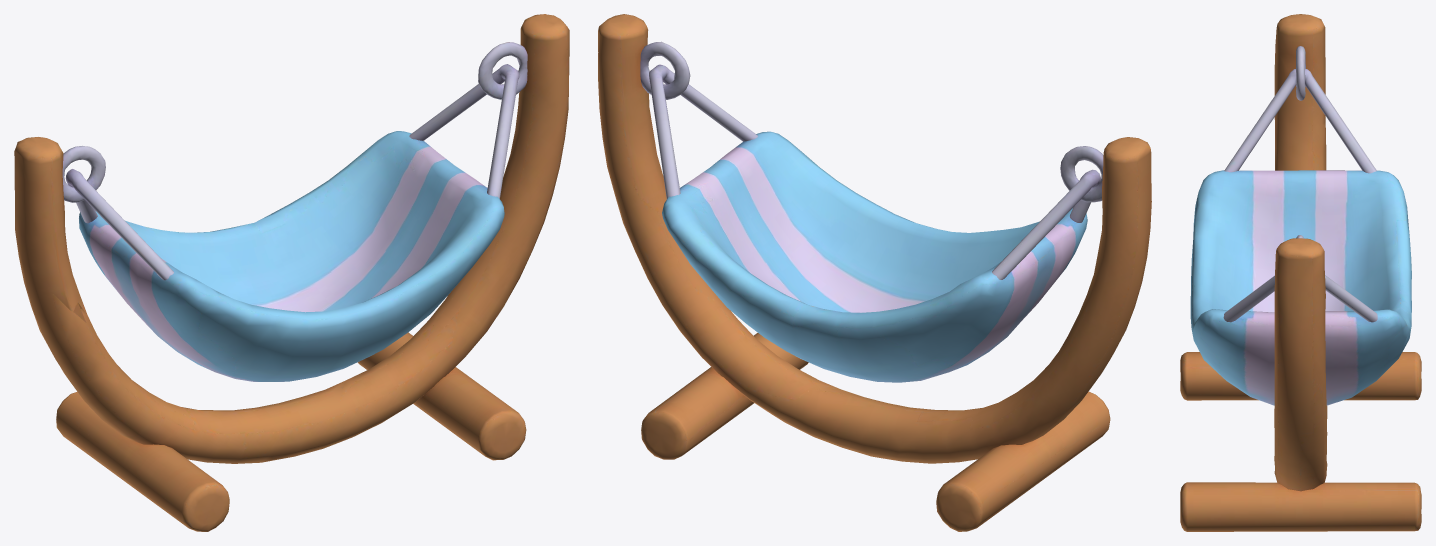
Rendered from hammock.glb.
3 views of the same model, side by side, from view 1: azimuth 30°, elevation 25°; view 2: azimuth 150°, elevation 25°; view 3: azimuth 270°, elevation 25° (orthographic). The views are drawn at different scales.
Parts seen in each view (by area): view 1: geometry_0; view 2: geometry_0; view 3: geometry_0.
Boxes of the visible parts, x1,y1,x2,y2 form: geometry_0: (14,14,569,531); geometry_0: (598,14,1151,531); geometry_0: (1180,14,1421,531).
Bounding box in the file's own units: 1 × 0.6571 × 0.4273.
1 material, 1 textured.
